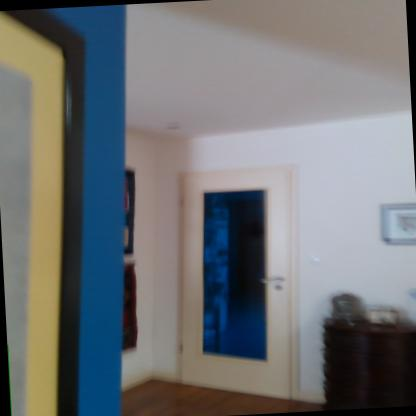closed: (158, 152, 318, 402)
